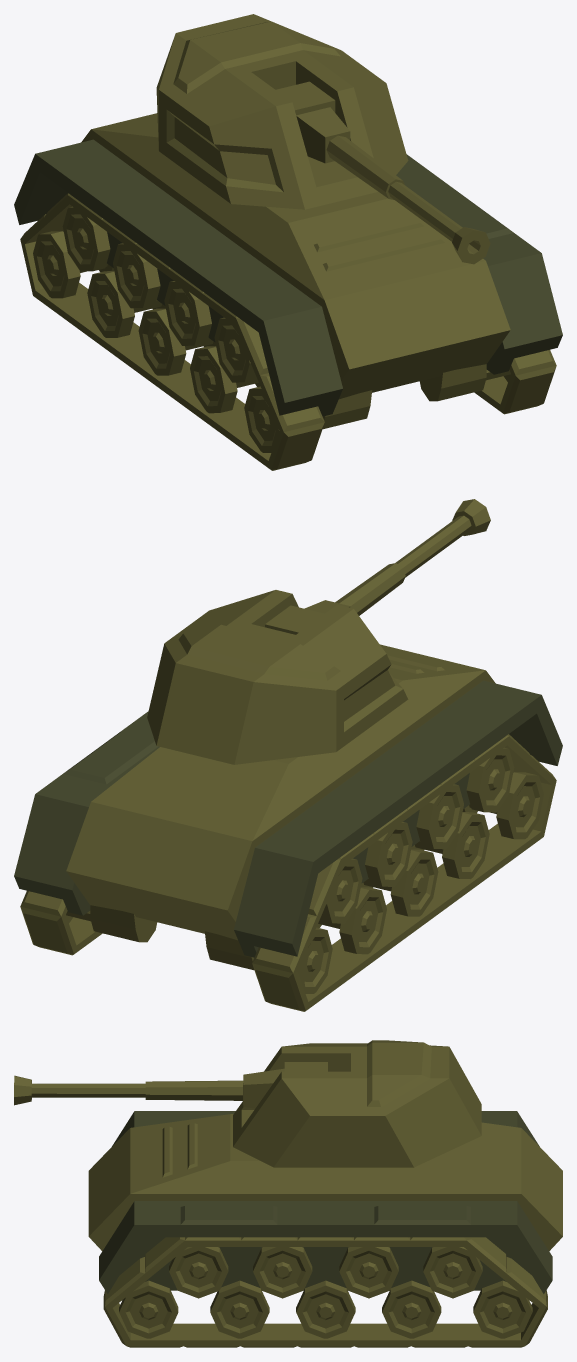
The model's file is LPWarPack_FuturisticTank.fbx.
3 views of the same model, one above another, from view 1: azimuth 30°, elevation 25°; view 2: azimuth 150°, elevation 25°; view 3: azimuth 270°, elevation 25° (orthographic). The views are drawn at different scales.
Parts seen in each view (by area): view 1: FuturisticTank; view 2: FuturisticTank; view 3: FuturisticTank.
Boxes of the visible parts, x1,y1,x2,y2 form: FuturisticTank: [14, 14, 562, 470]; FuturisticTank: [14, 499, 562, 1011]; FuturisticTank: [14, 1040, 562, 1347].
Bounding box in the file's own units: 207 × 199 × 422.
